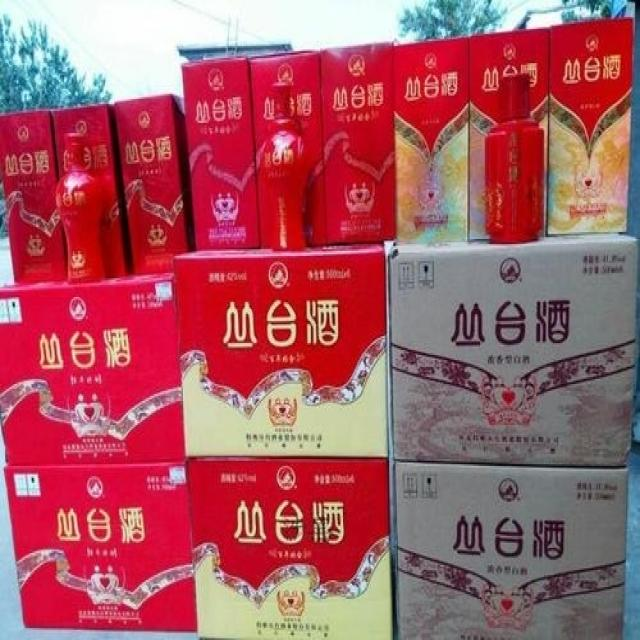box: (381, 232, 637, 468), (173, 241, 389, 459), (389, 461, 628, 640), (186, 459, 393, 640), (0, 270, 184, 466), (3, 459, 197, 630), (548, 15, 635, 236), (468, 27, 549, 242), (394, 36, 468, 244), (320, 43, 396, 244), (182, 58, 261, 251), (250, 49, 324, 251), (114, 94, 196, 273), (49, 104, 128, 280), (0, 109, 68, 287)
